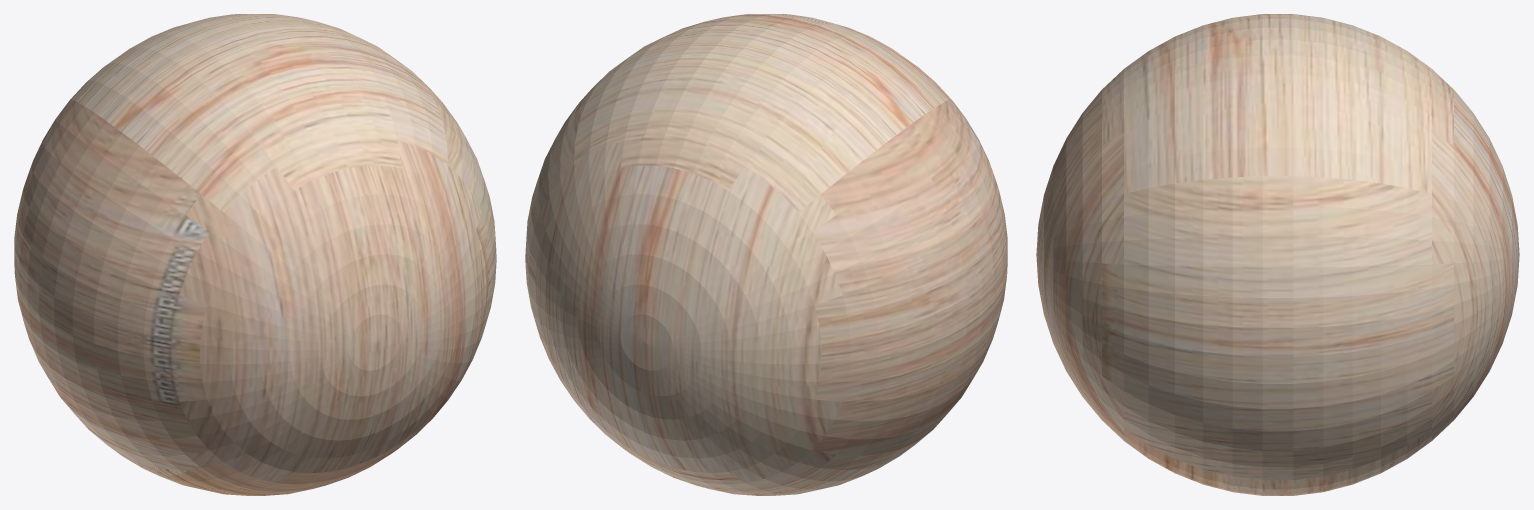
File: phere.dae
3 views of the same model, side by side, from view 1: azimuth 30°, elevation 25°; view 2: azimuth 150°, elevation 25°; view 3: azimuth 270°, elevation 25° (orthographic).
Parts seen in each view (by area): view 1: ball; view 2: ball; view 3: ball.
Boxes of the visible parts, x1=… form: ball: x1=14, y1=14, x2=496, y2=495; ball: x1=525, y1=14, x2=1007, y2=495; ball: x1=1036, y1=14, x2=1519, y2=495.
Bounding box in the file's own units: 0.0997 × 0.1 × 0.0998.
Materials: 1 (1 with a texture image).
